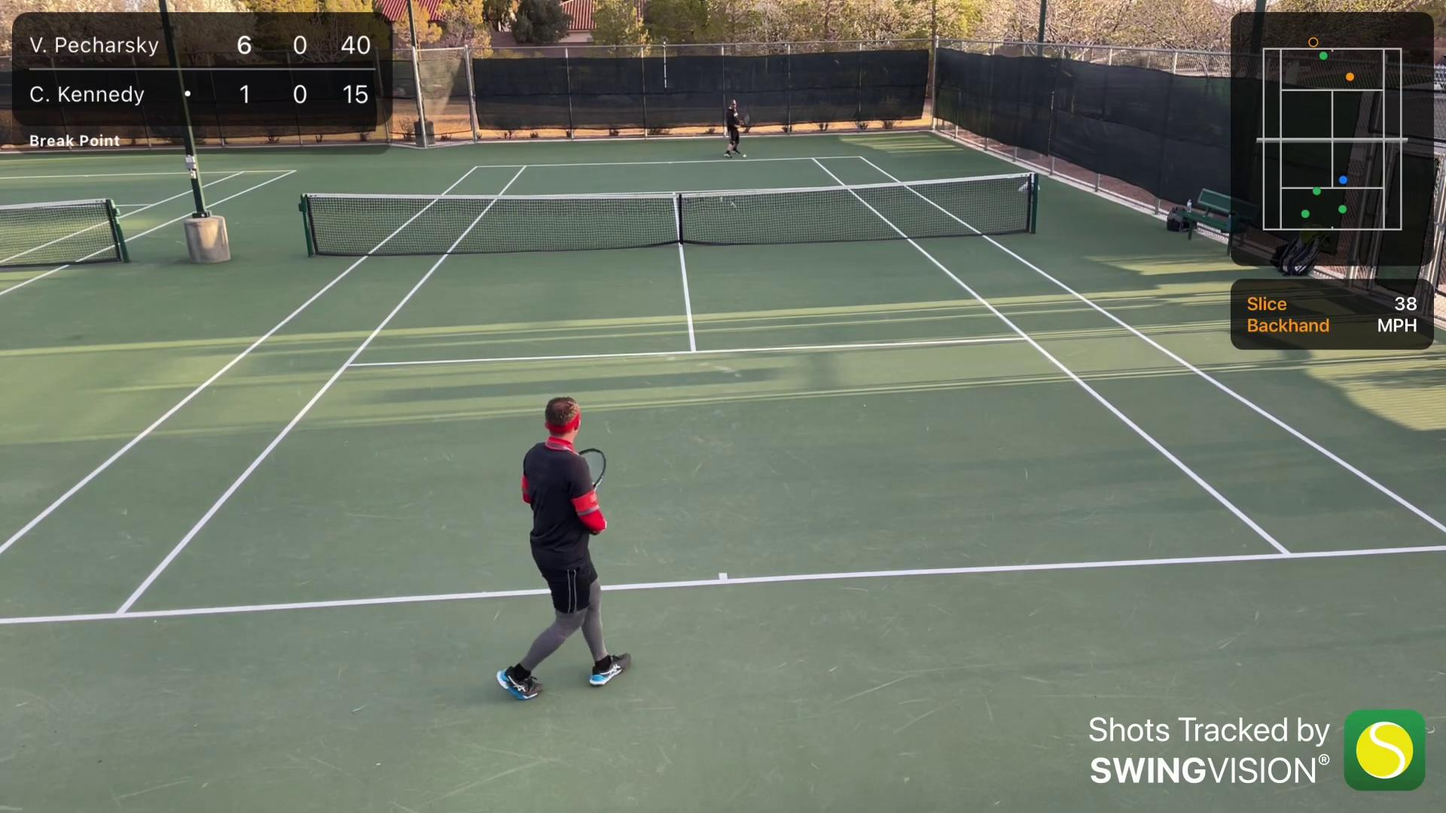ball: (742, 153, 747, 158)
